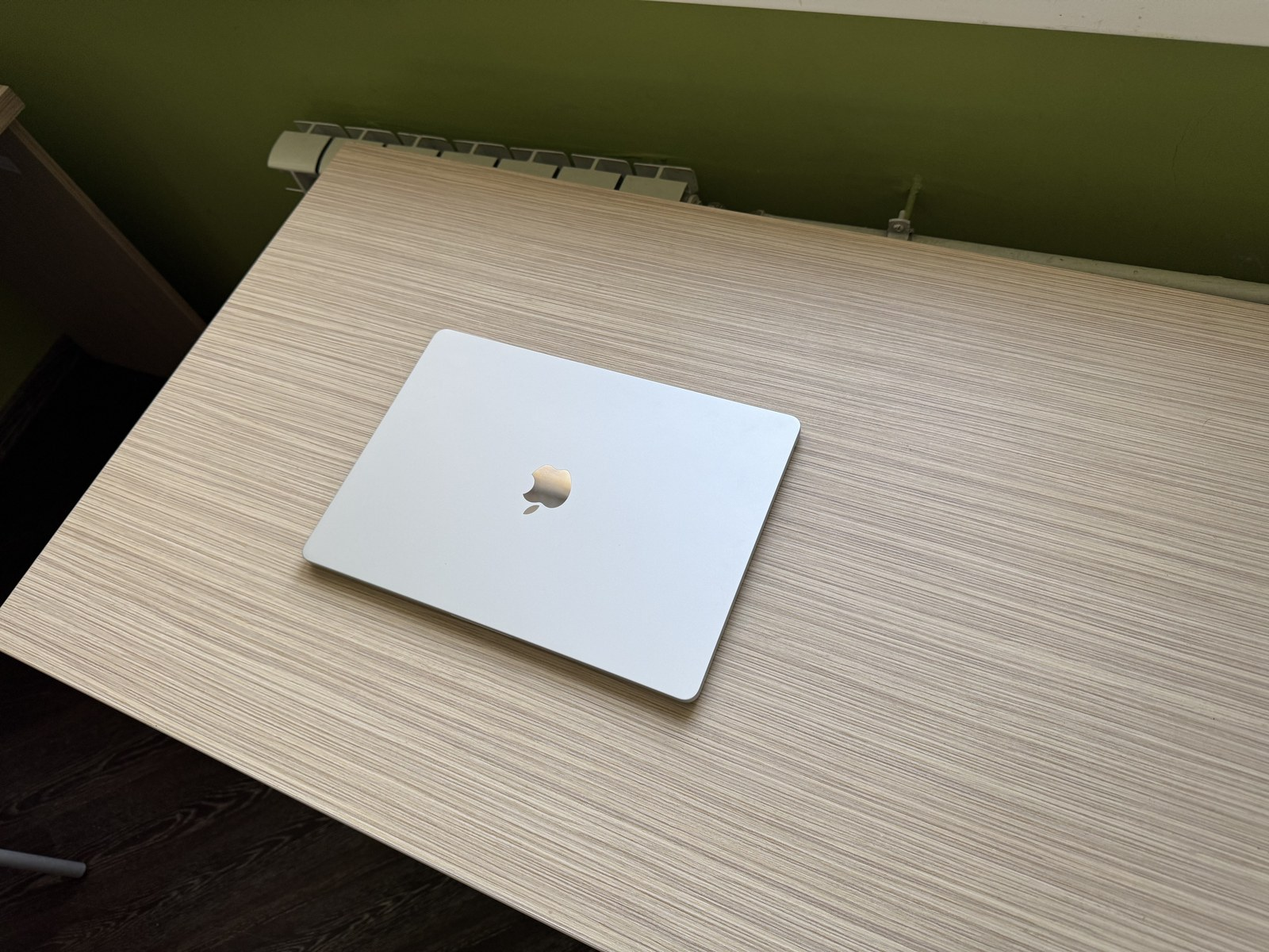laptop: (302, 327, 802, 703)
